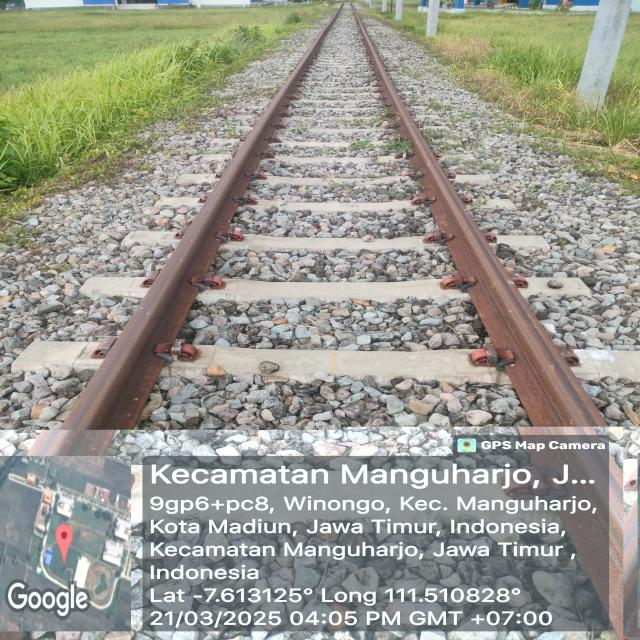rail-detection: (64, 10, 340, 431), (355, 12, 604, 426)
